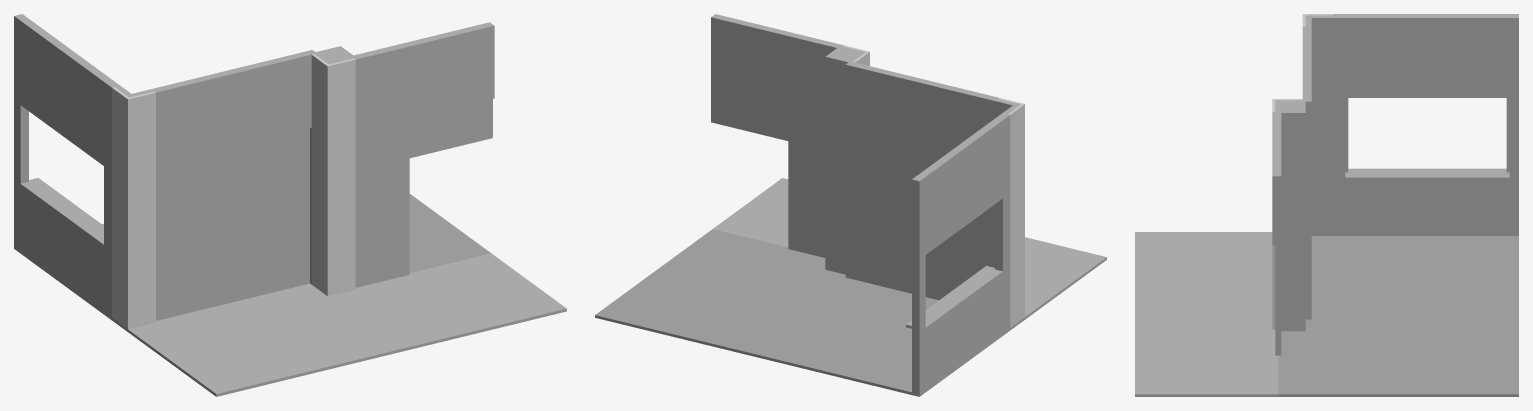
The model's file is 4x2 first (2)-5.obj.
The picture shows the model from 3 angles, left to right: view 1: azimuth 30°, elevation 25°; view 2: azimuth 150°, elevation 25°; view 3: azimuth 270°, elevation 25°; orthographic projection. The views are drawn at different scales.
Visible parts, largest first — view 1: 4x2 first (2)-5; view 2: 4x2 first (2)-5; view 3: 4x2 first (2)-5.
Boxes of the visible parts, x1,y1,x2,y2 form: 4x2 first (2)-5: (14,14,566,396); 4x2 first (2)-5: (595,14,1106,396); 4x2 first (2)-5: (1135,14,1518,396).
Bounding box in the file's own units: 126 × 80 × 126.
Materials: 1 (1 with a texture image).
